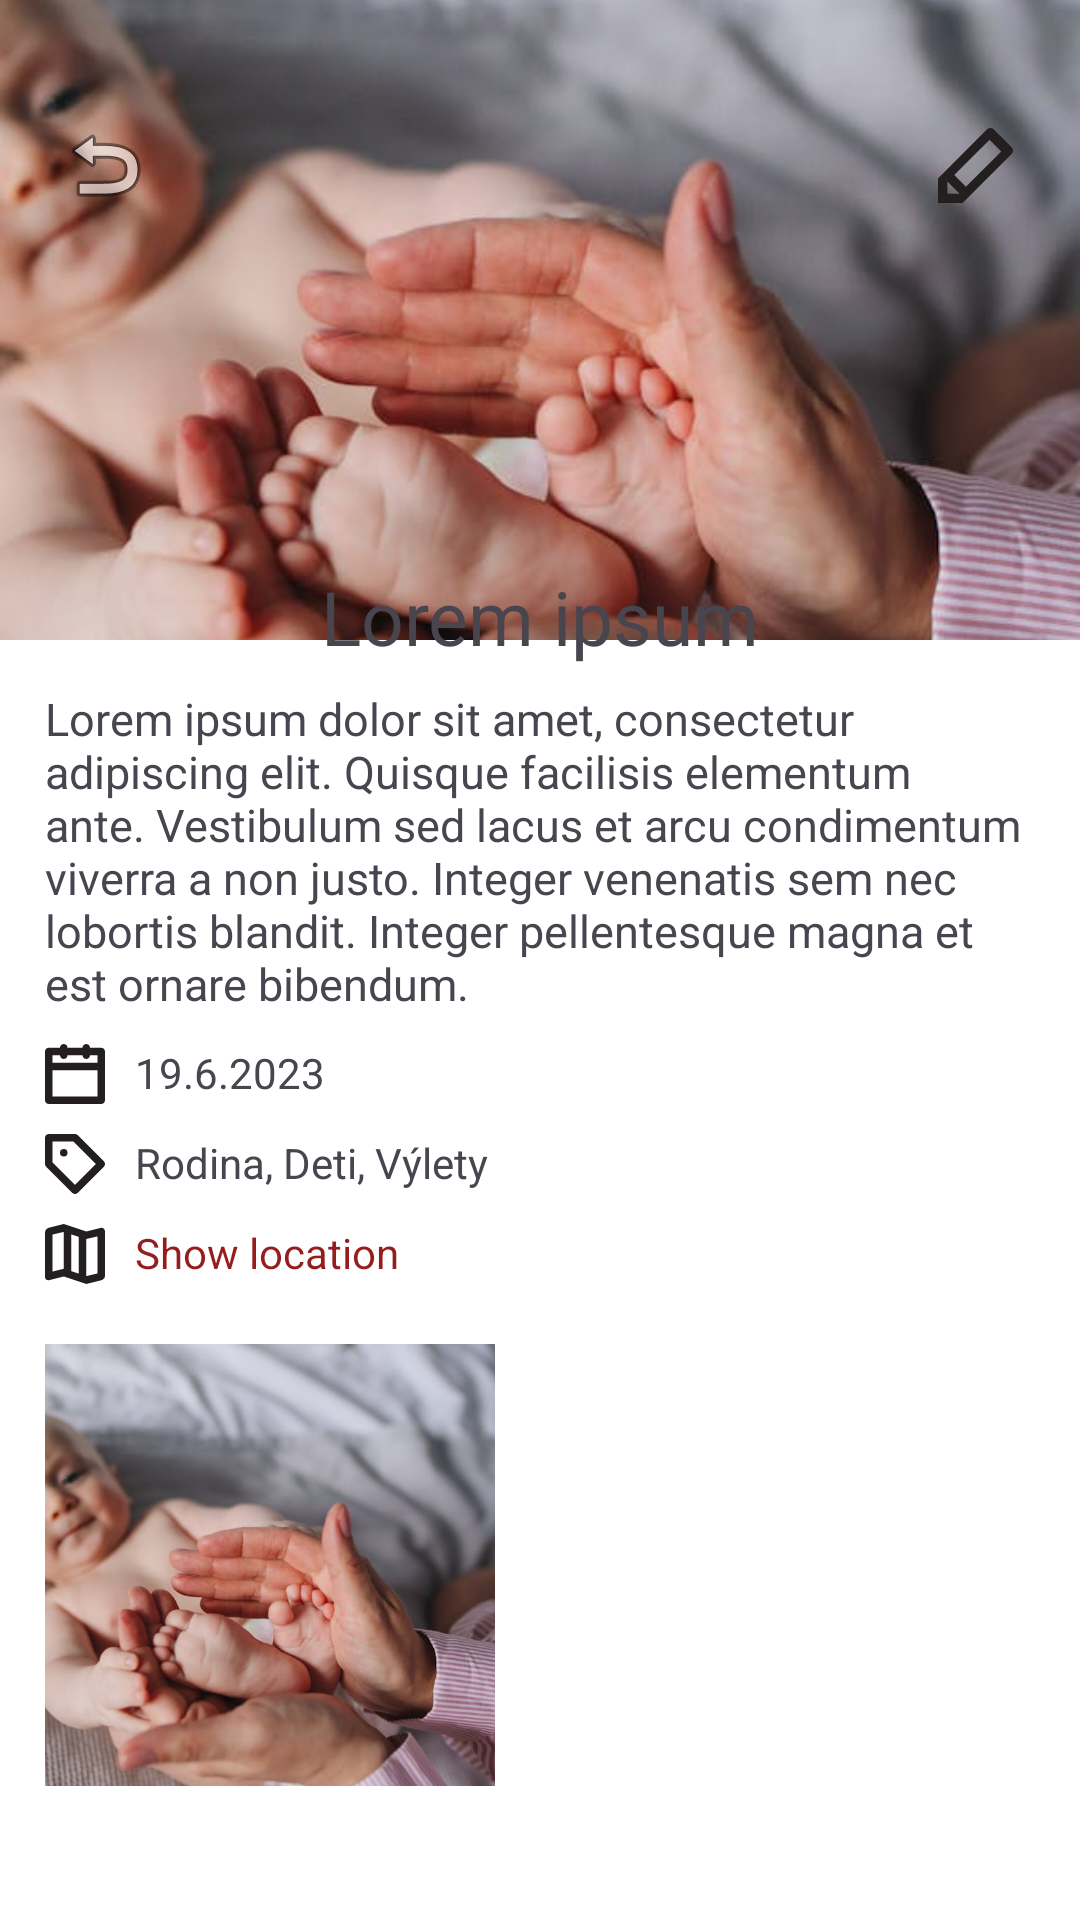

Named icons in this screenshot (1080px x 1920px) and their centers, (x,y):
calendar: (75,1074)
map: (75,1254)
tag: (75,1164)
